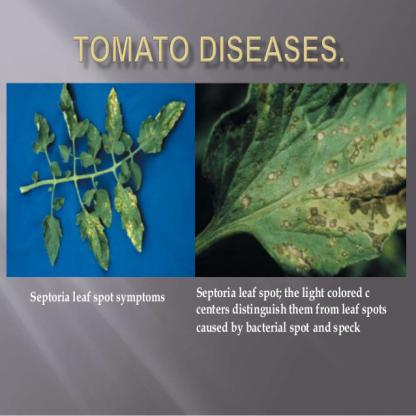tomato septoria leaf spot: (204, 89, 404, 274), (136, 94, 186, 164), (74, 208, 124, 272), (109, 180, 147, 252), (99, 86, 128, 163)
